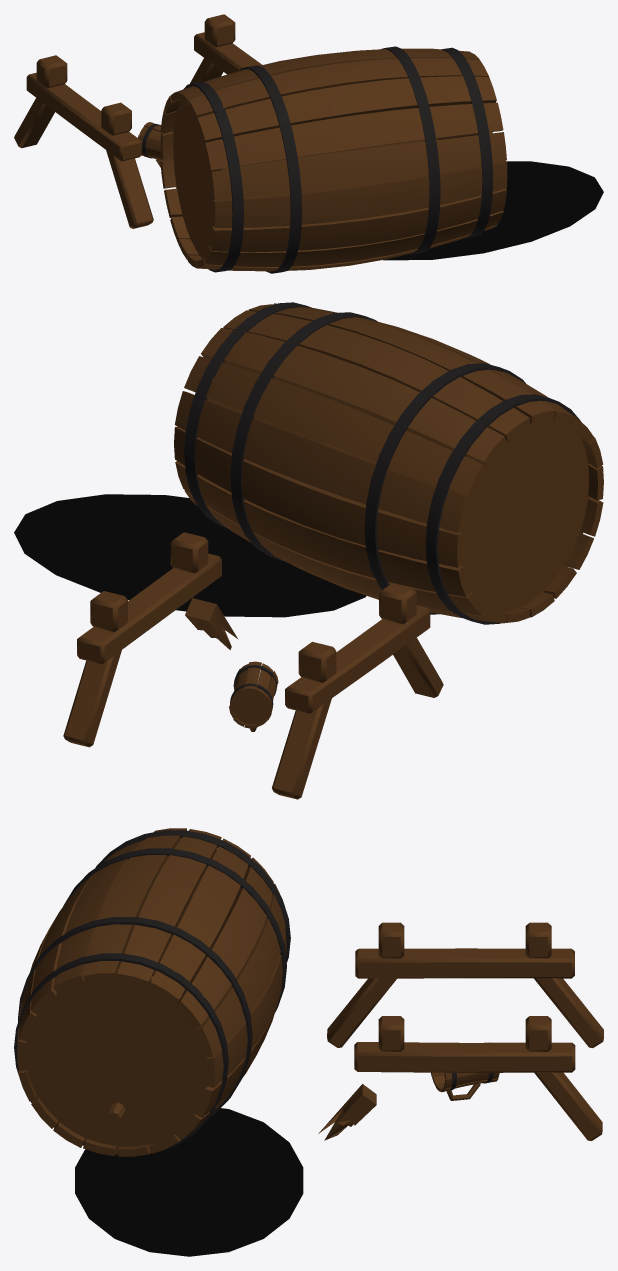
Rendered from zapffass_kaputt.glb.
3 views of the same model, one above another, from view 1: azimuth 30°, elevation 25°; view 2: azimuth 150°, elevation 25°; view 3: azimuth 270°, elevation 25° (orthographic). The views are drawn at different scales.
Visible parts, largest first — view 1: zapffass_kaputt; view 2: zapffass_kaputt; view 3: zapffass_kaputt.
Boxes of the visible parts, x1=… form: zapffass_kaputt: x1=14, y1=14, x2=603, y2=273; zapffass_kaputt: x1=14, y1=302, x2=603, y2=799; zapffass_kaputt: x1=14, y1=828, x2=603, y2=1256.
Bounding box in the file's own units: 1.51 × 0.697 × 1.6.
